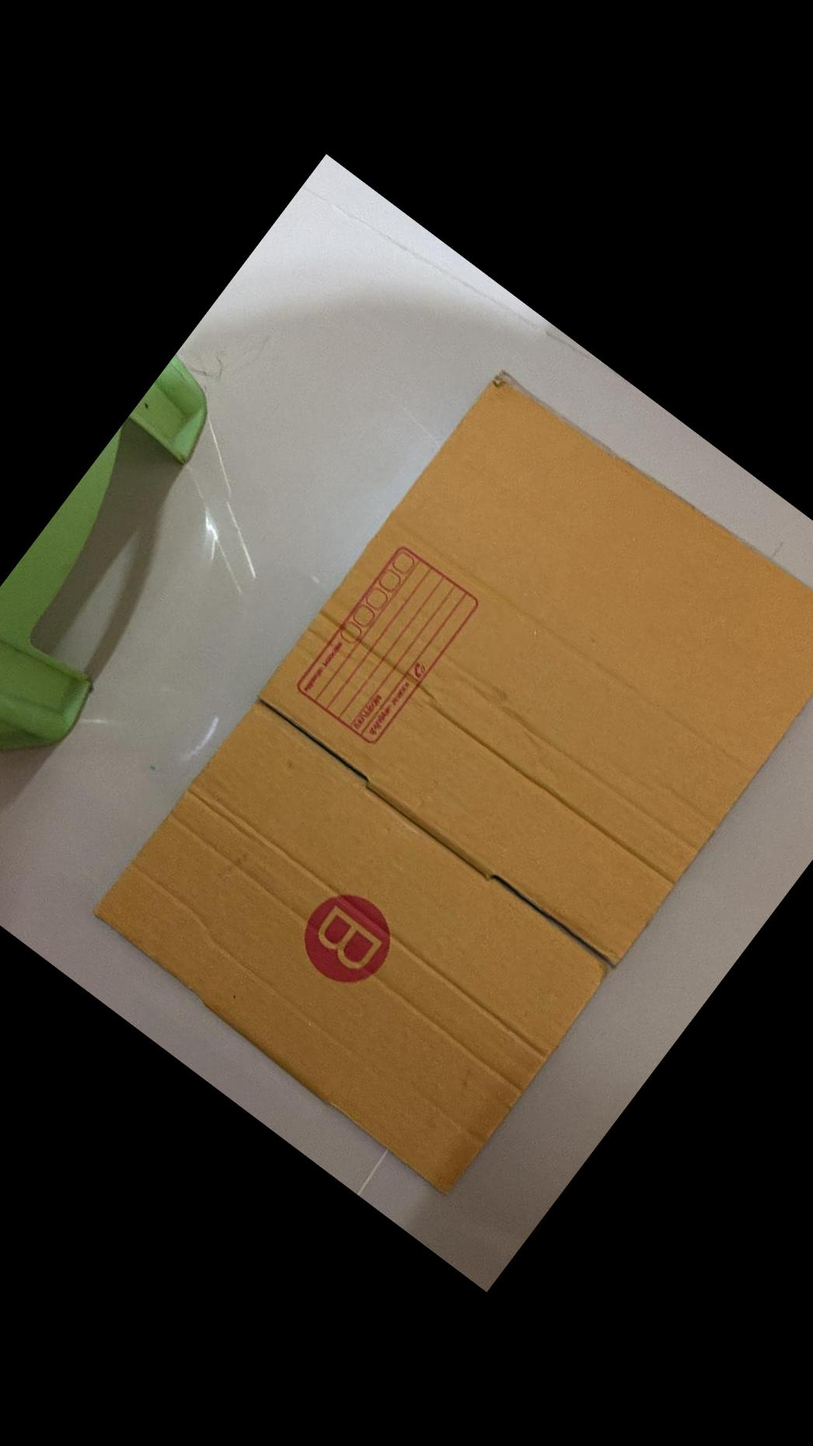box: (284, 535, 489, 754), (284, 877, 408, 1000)
class0: (78, 364, 813, 1204)
